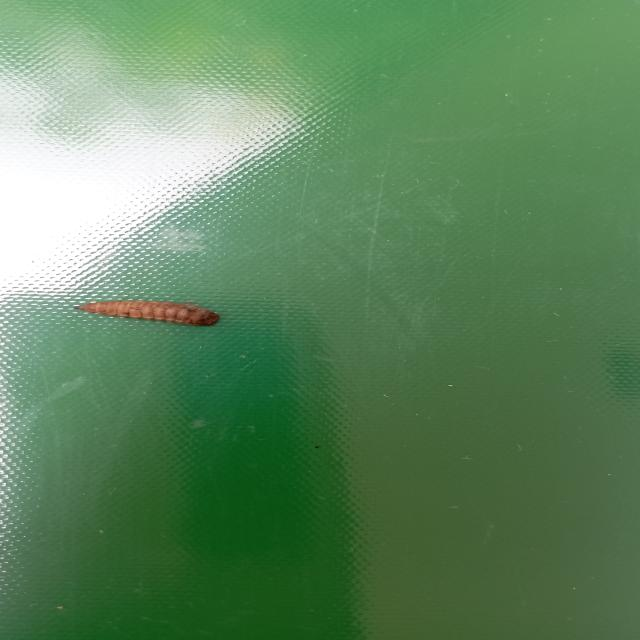Maggot: (71, 300, 221, 328)
